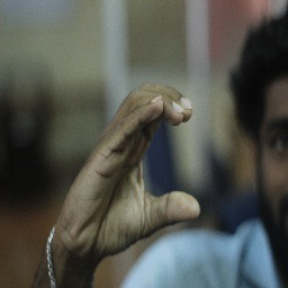C: (86, 80, 206, 235)
